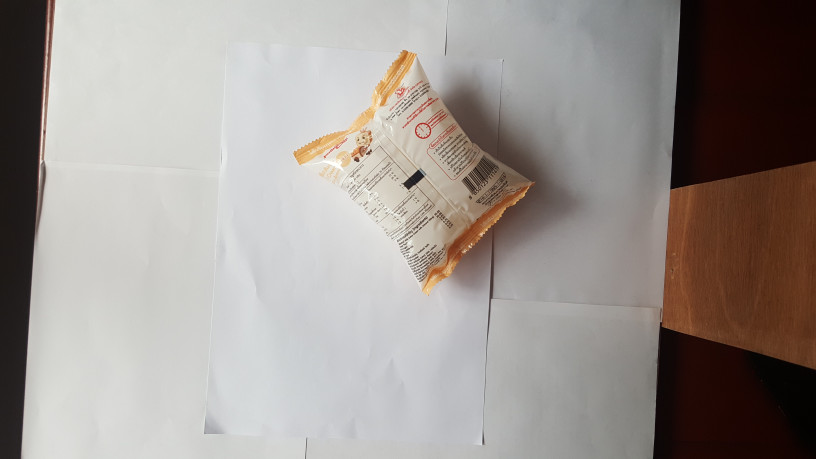farmhouse-sweetsandwich-almond: (283, 49, 540, 298)
